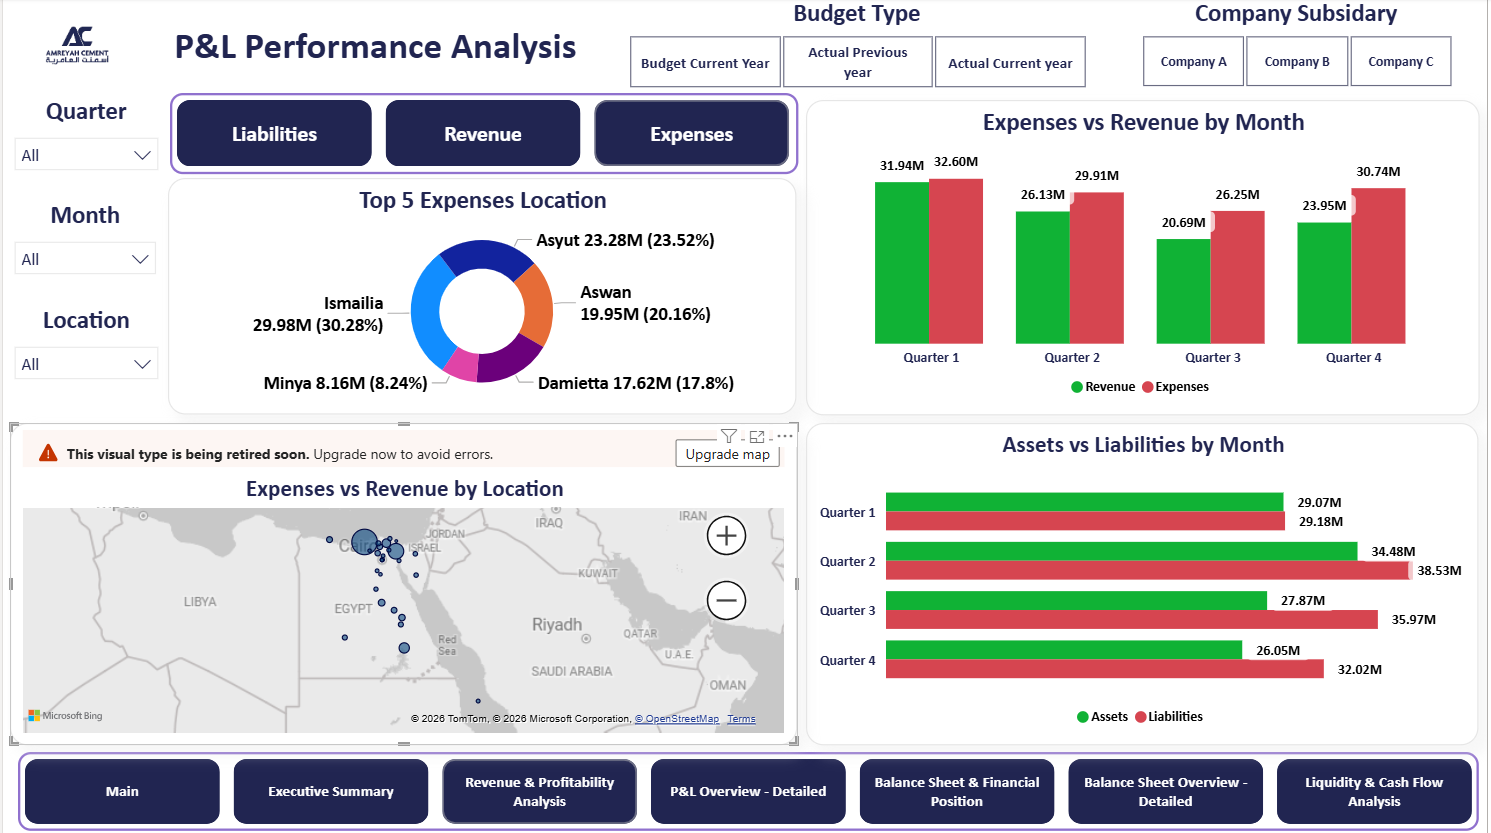

Layout of this report page (visuals, bound fields, positions):
{"tool":"powerbi","page":{"name":"Revenue & Profitability Analysis","canvas":[1280,720],"ordinal":2},"visuals":[{"type":"textbox","box":[127.5,0,387.2,82.4],"z":0,"group":"g1"},{"type":"pageNavigator","title":"Report Pages","box":[13,650,1260,68],"z":0},{"type":"group","id":"g1","title":"Group 1","box":[0,0,514.7,82.4],"z":1000},{"type":"image","box":[0,0,127.5,82.4],"z":1000,"group":"g1"},{"type":"slicer","title":"Budget Type","fields":{"Values":["Budget Type.Name"]},"box":[514.6,0,443,83.1],"z":2000},{"type":"slicer","title":"Company Subsidary","fields":{"Values":["Data Table.Company Subsidary"]},"box":[957.4,0,316,83.3],"z":3000},{"type":"slicer","title":"Quarter","fields":{"Values":["Calendar.Quarter"]},"box":[0,84.9,143.6,89.3],"z":4000},{"type":"slicer","title":"Month","fields":{"Values":["Calendar.MonthName"]},"box":[0,174.2,141.8,90.2],"z":5000},{"type":"slicer","title":"Location","fields":{"Values":["Data Table.Location"]},"box":[0,264.4,143.6,95.4],"z":6000},{"type":"map","title":"Expenses vs Revenue by Location","fields":{"Size":["Measure.Revenue (+)"],"Category":["Data Table.Location"]},"box":[6.1,366.8,679.4,277.5],"z":14000},{"type":"bookmarkNavigator","box":[143.8,82.4,541.6,69.8],"z":18000},{"type":"clusteredColumnChart","title":"Expenses vs Revenue by Month","fields":{"Category":["Calendar.Quarter","Calendar.MonthName"],"Y":["Measure.Revenue (+)","Measure.Expenses (+)"]},"box":[692.3,87.9,580.7,272.2],"z":18002},{"type":"donutChart","title":"Top 5 Expenses Location","fields":{"Category":["Data Table.Location"],"Y":["Measure.Expenses (+)"]},"box":[142.4,154.9,541.6,203.8],"z":18004},{"type":"clusteredBarChart","title":"Assets vs Liabilities by Month","fields":{"Category":["Calendar.Quarter","Calendar.MonthName"],"Y":["Measure.Total Assets","Measure.Liabilities"]},"box":[692.5,366.8,580.5,277.5],"z":18005}]}

Visuals, with their boxes in screenshot pixels (x1, y1, x2, y2), scaled from the page's 1280x720 canvas onto the 1491x833 screenshot:
textbox: bbox=[149, 0, 600, 95]
"Report Pages" pageNavigator: bbox=[15, 752, 1483, 831]
"Group 1" group: bbox=[0, 0, 600, 95]
image: bbox=[0, 0, 149, 95]
"Budget Type" slicer: bbox=[599, 0, 1115, 96]
"Company Subsidary" slicer: bbox=[1115, 0, 1483, 96]
"Quarter" slicer: bbox=[0, 98, 167, 202]
"Month" slicer: bbox=[0, 202, 165, 306]
"Location" slicer: bbox=[0, 306, 167, 416]
"Expenses vs Revenue by Location" map: bbox=[7, 424, 799, 745]
bookmarkNavigator: bbox=[168, 95, 798, 176]
"Expenses vs Revenue by Month" clusteredColumnChart: bbox=[806, 102, 1483, 417]
"Top 5 Expenses Location" donutChart: bbox=[166, 179, 797, 415]
"Assets vs Liabilities by Month" clusteredBarChart: bbox=[807, 424, 1483, 745]
